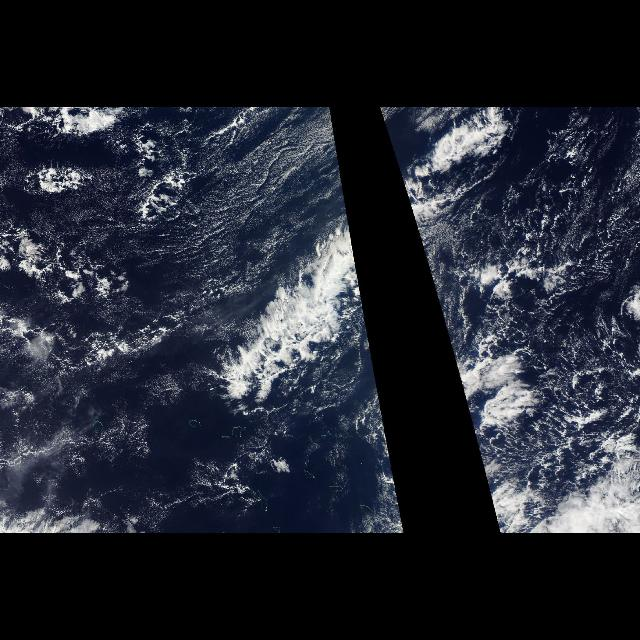Fish: (228, 178, 382, 418), (402, 178, 428, 264)
Gravel: (454, 140, 640, 500), (2, 212, 180, 368)
Sugar: (182, 108, 358, 278)
